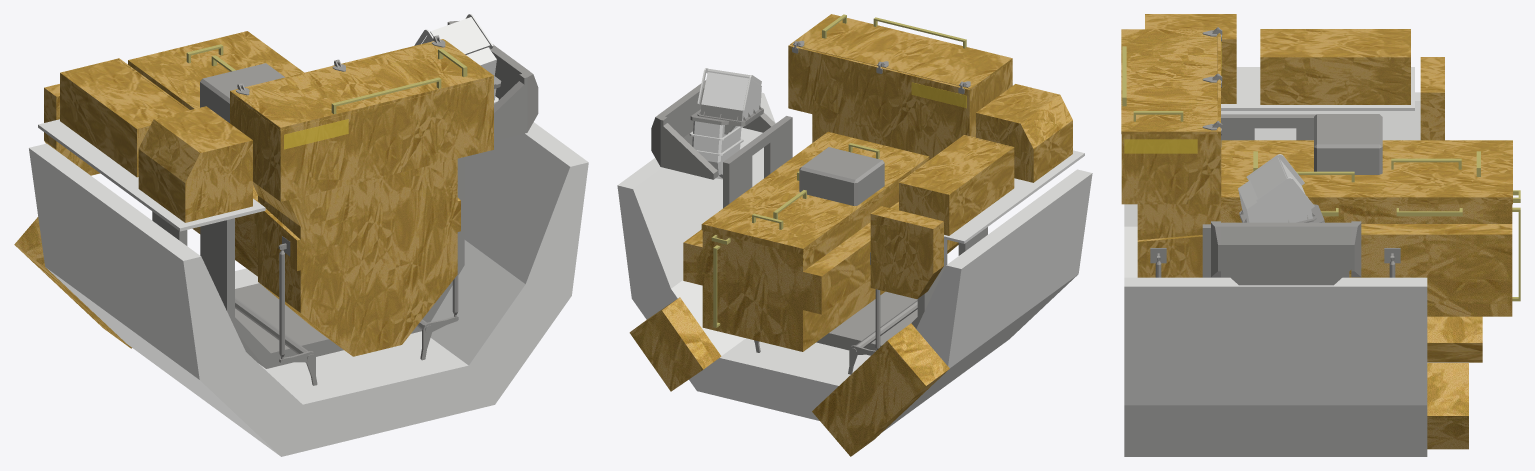
The model's file is Orbital Replacement Unit.glb.
3 renders of one model, left to right at view 1: azimuth 30°, elevation 25°; view 2: azimuth 150°, elevation 25°; view 3: azimuth 270°, elevation 25°, orthographic. The views are drawn at different scales.
Parts seen in each view (by area): view 1: spaceshutt; view 2: spaceshutt; view 3: spaceshutt.
Part boxes in pixels (x1,y1,x2,y2): spaceshutt: [14, 14, 588, 456]; spaceshutt: [617, 14, 1092, 456]; spaceshutt: [1121, 14, 1520, 456].
Bounding box in the file's own units: 174 × 141 × 151.
Materials: 4 (4 with a texture image).
